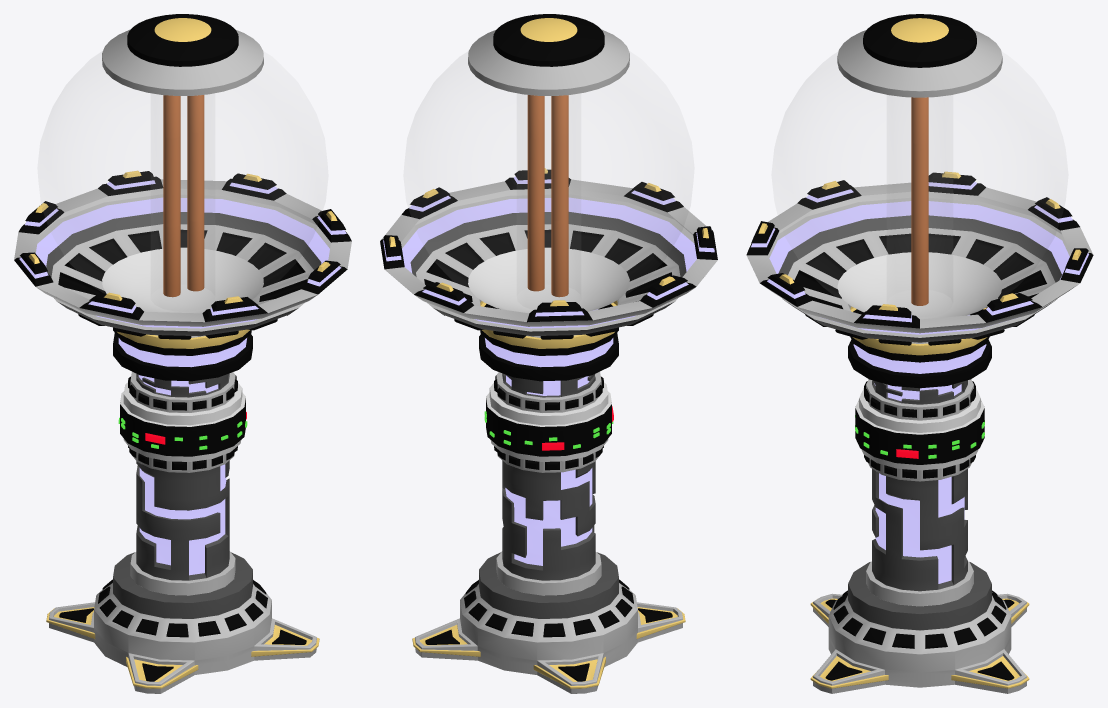
File: Leurre.fbx
3 renders of one model, left to right at view 1: azimuth 30°, elevation 25°; view 2: azimuth 150°, elevation 25°; view 3: azimuth 270°, elevation 25°, orthographic.
Visible parts, largest first — view 1: Leurre, Fusilbe a retirer; view 2: Leurre, Fusilbe a retirer; view 3: Leurre, Fusilbe a retirer.
Boxes of the visible parts, bbox=[...] form: Leurre: bbox=[14, 14, 351, 693]; Fusilbe a retirer: bbox=[163, 129, 204, 227]; Leurre: bbox=[380, 14, 717, 693]; Fusilbe a retirer: bbox=[527, 130, 568, 225]; Leurre: bbox=[746, 14, 1093, 693]; Fusilbe a retirer: bbox=[911, 141, 928, 234].
Size of the model in its own units: 380 by 750 by 380.
